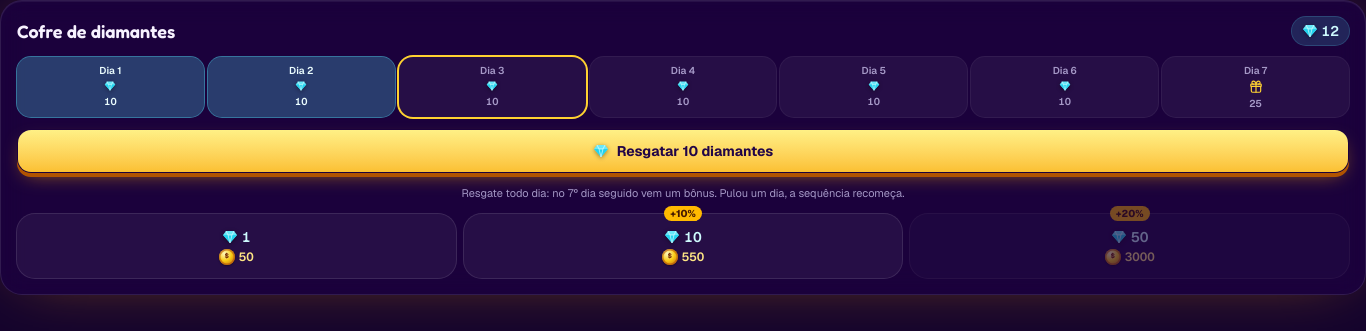
Scenario: DiamondVault › shows the balance, the 7-day track and claims today
Expected: the list named "Sequência: 2 de 7 dias" is shown, x1=17 y1=57 x2=1349 y2=117
Click the button "Resgatar 10 diamantes".
click(683, 151)  # box x1=17 y1=129 x2=1349 y2=173
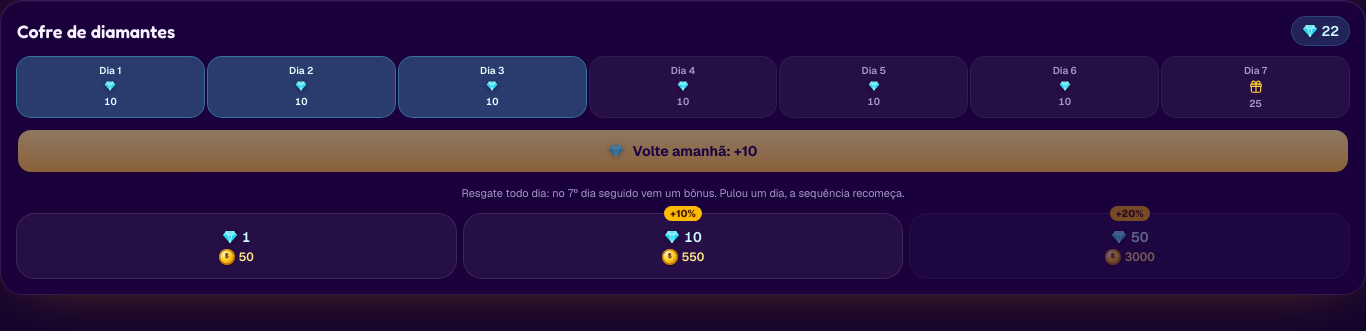
Now the button "Volte amanhã: +10" is disabled, box x1=17 y1=129 x2=1349 y2=173
